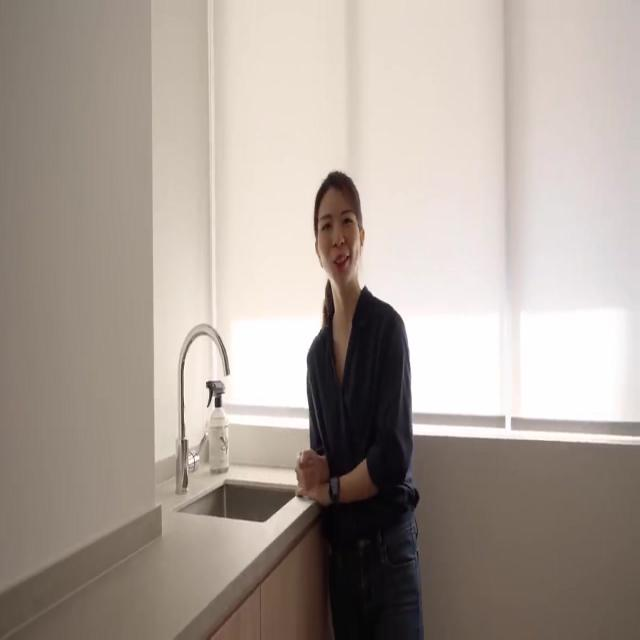obstacle: (208, 517, 328, 639)
person: (294, 170, 424, 639)
